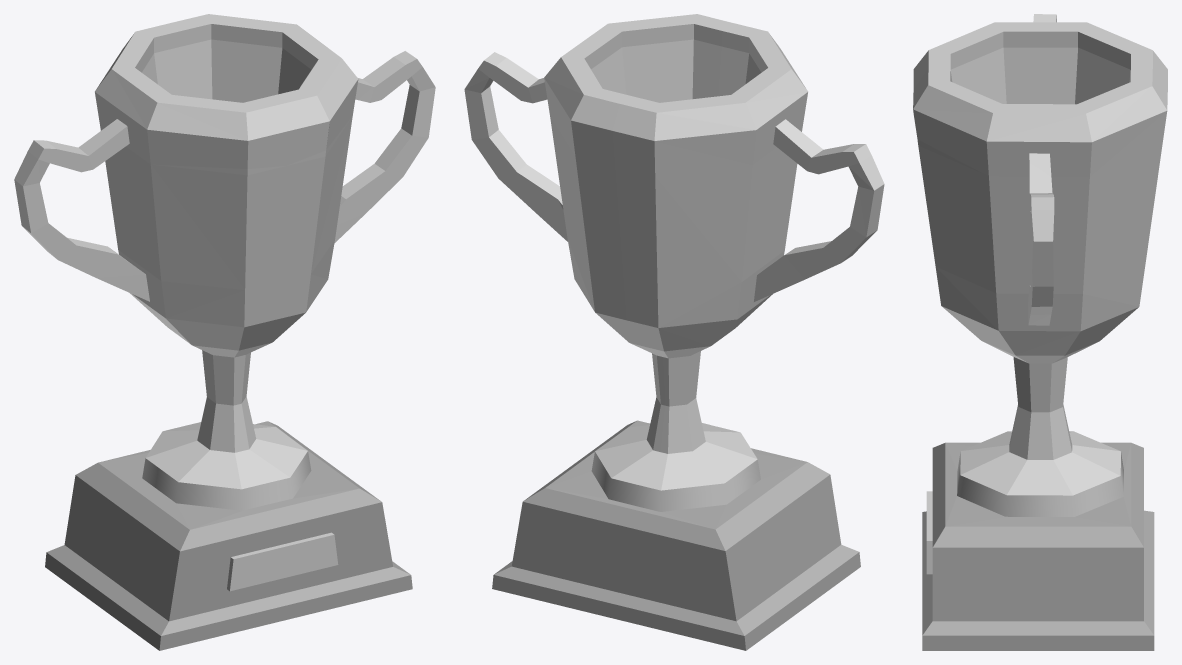
File: Trophy.FBX
3 renders of one model, left to right at view 1: azimuth 30°, elevation 25°; view 2: azimuth 150°, elevation 25°; view 3: azimuth 270°, elevation 25°, orthographic.
Visible parts, largest first — view 1: Cylinder003; view 2: Cylinder003; view 3: Cylinder003.
Part boxes in pixels (left/top/right/bottom): Cylinder003: left=14, top=14, right=435, bottom=650; Cylinder003: left=464, top=14, right=884, bottom=650; Cylinder003: left=913, top=14, right=1167, bottom=650.
Size of the model in its own units: 70.63 by 84.37 by 37.47.
